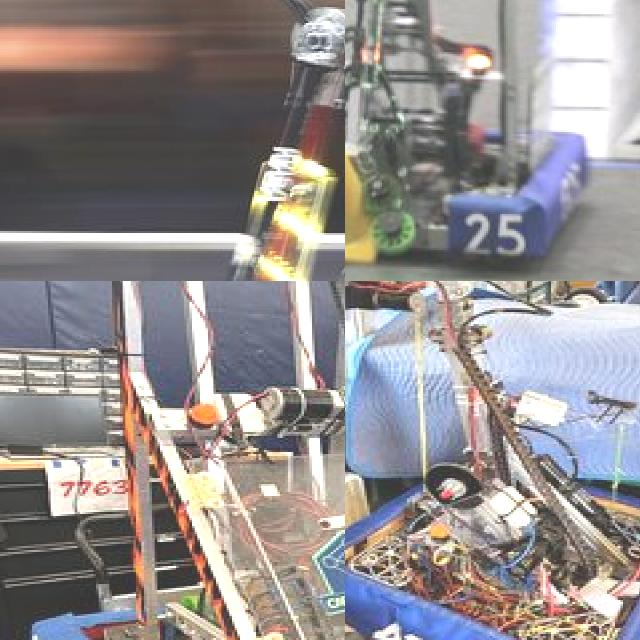FRC-Robots: (0, 281, 345, 640), (345, 281, 640, 640), (54, 0, 345, 281), (345, 0, 623, 279)
